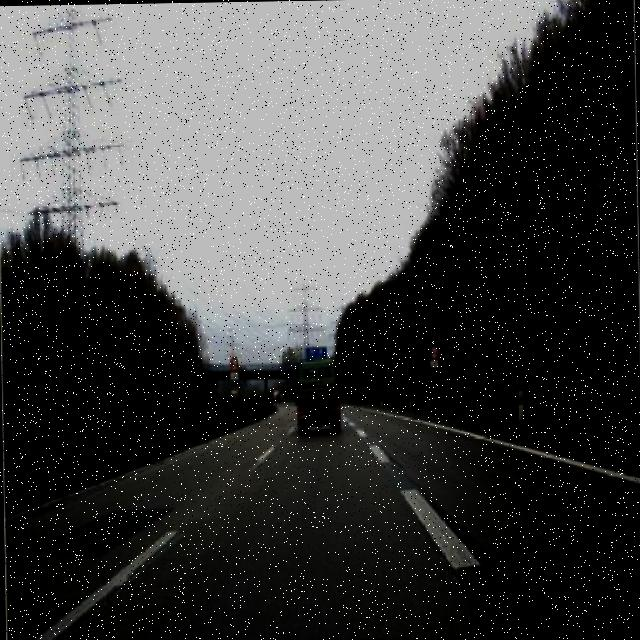Zakaz wyprzedzania: (228, 353, 238, 372)
